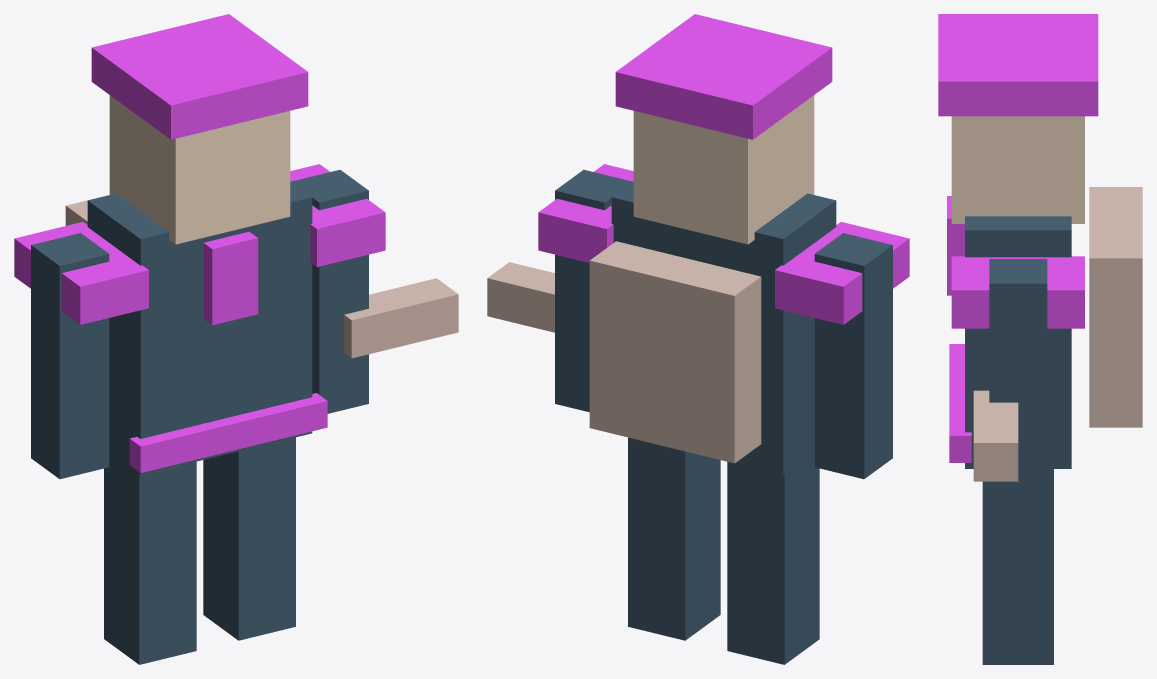
The model's file is 15_sable_latchward_courier_near_mag_rail.glb.
3 renders of one model, left to right at view 1: azimuth 30°, elevation 25°; view 2: azimuth 150°, elevation 25°; view 3: azimuth 270°, elevation 25°, orthographic.
Visible parts, largest first — view 1: Sable Latchward, Courier near Mag-Rail; view 2: Sable Latchward, Courier near Mag-Rail; view 3: Sable Latchward, Courier near Mag-Rail.
Boxes of the visible parts, <box> form: Sable Latchward, Courier near Mag-Rail: <box>14,14,458,664</box>; Sable Latchward, Courier near Mag-Rail: <box>487,14,909,664</box>; Sable Latchward, Courier near Mag-Rail: <box>938,14,1142,664</box>.
Bounding box in the file's own units: 1.07 × 1.5 × 0.4813.
